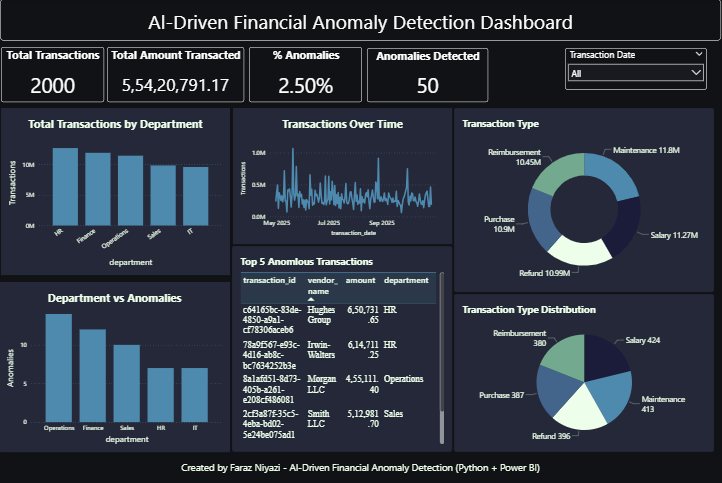

Layout of this report page (visuals, bound fields, positions):
{"tool":"powerbi","page":{"name":"Overview Page","canvas":[1400,950],"ordinal":0},"visuals":[{"type":"textbox","box":[1.9,0,1397.9,81.4],"z":0},{"type":"card","title":"Total Transactions","fields":{"Values":["CountNonNull(transactions_with_anomalies.transaction_date)"]},"box":[3.9,93.1,199.7,106.6],"z":1000},{"type":"card","title":"Total Amount Transacted","fields":{"Values":["Sum(transactions_with_anomalies.amount)"]},"box":[209.4,93.1,265.6,106.6],"z":2000},{"type":"card","title":"% Anomalies","fields":{"Values":["transactions_with_anomalies.Anomaly Rate %"]},"box":[484.7,93.1,219.1,106.6],"z":3000},{"type":"columnChart","title":"Total Transactions by Department","fields":{"Category":["transactions_with_anomalies.department"],"Y":["Sum(transactions_with_anomalies.amount)"]},"box":[3.9,211.3,444,323.8],"z":4000},{"type":"lineChart","title":"Transactions Over Time","fields":{"Y":["Sum(transactions_with_anomalies.amount)"],"Category":["transactions_with_anomalies.transaction_date"]},"box":[453.7,211.3,424.6,263.7],"z":5000},{"type":"card","title":"Anomalies Detected","fields":{"Values":["transactions_with_anomalies.Anomalies Detected"]},"box":[713.5,95,234.6,104.7],"z":6000},{"type":"slicer","fields":{"Values":["transactions_with_anomalies.transaction_date"]},"box":[1097.3,95,275.3,81.4],"z":7000},{"type":"donutChart","title":"Transaction Type","fields":{"Category":["transactions_with_anomalies.transaction_type"],"Y":["Sum(transactions_with_anomalies.amount)"]},"box":[882.1,211.3,504.1,356.7],"z":8000},{"type":"columnChart","title":"Department vs Anomalies","fields":{"Category":["transactions_with_anomalies.department"],"Y":["Sum(transactions_with_anomalies.final_anomaly)"]},"box":[0,548.7,447.9,329.6],"z":9000},{"type":"tableEx","title":"Top 5 Anomlous Transactions","fields":{"Values":["transactions_with_anomalies.transaction_id","transactions_with_anomalies.vendor_name","Sum(transactions_with_anomalies.amount)","transactions_with_anomalies.department"]},"box":[451.7,478.9,426.5,399.4],"z":10000},{"type":"pieChart","title":"Transaction Type Distribution","fields":{"Category":["transactions_with_anomalies.transaction_type"],"Y":["CountNonNull(transactions_with_anomalies.transaction_id)"]},"box":[882.1,571.9,504.1,306.3],"z":11000},{"type":"textbox","box":[1.9,878.3,1397.9,71.7],"z":12000}]}

Visuals, with their boxes in screenshot pixels (x1, y1, x2, y2), scaled from the page's 1400x950 canvas onto the 722x483 screenshot:
textbox: region(1, 0, 721, 41)
"Total Transactions" card: region(2, 47, 105, 102)
"Total Amount Transacted" card: region(108, 47, 245, 102)
"% Anomalies" card: region(250, 47, 363, 102)
"Total Transactions by Department" columnChart: region(2, 107, 231, 272)
"Transactions Over Time" lineChart: region(234, 107, 453, 242)
"Anomalies Detected" card: region(368, 48, 489, 102)
slicer - transactions_with_anomalies.transaction_date: region(566, 48, 708, 90)
"Transaction Type" donutChart: region(455, 107, 715, 289)
"Department vs Anomalies" columnChart: region(0, 279, 231, 447)
"Top 5 Anomlous Transactions" tableEx: region(233, 243, 453, 447)
"Transaction Type Distribution" pieChart: region(455, 291, 715, 446)
textbox: region(1, 447, 721, 482)
